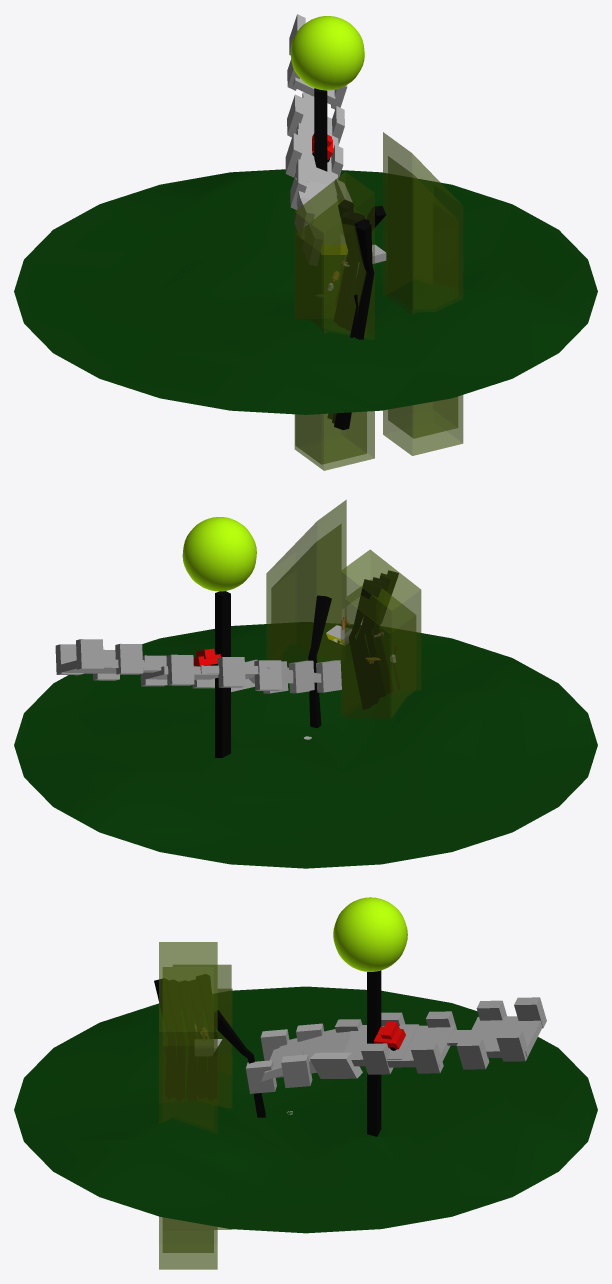
The picture shows the model from 3 angles, top to bottom: view 1: azimuth 30°, elevation 25°; view 2: azimuth 150°, elevation 25°; view 3: azimuth 270°, elevation 25°; orthographic projection.
Parts seen in each view (by area): view 1: left_tree1, pCube2, pCube18, pCube20, pasted__pCube18, pSphere3, pasted__right_tree5, right_tree, pCube8, pasted__right_tree13, pCube7, shard2 (+1 smaller); view 2: left_tree1, pCube18, pCube2, pasted__pCube18, pCube20, pSphere3, right_tree, right_tree2, pasted__right_tree14, pasted__right_tree13, pasted__right_tree6, pCube23 (+9 smaller); view 3: left_tree1, pCube2, pCube20, pSphere3, right_tree, pCube18, pCube25, pasted__pCube18, pCube21, pCube12, pCube8, pasted__right_tree6 (+16 smaller).
Boxes of the visible parts, x1,y1,x2,y2 form: left_tree1: (14,169,597,414); pCube2: (383,132,463,455); pCube18: (294,172,374,470); pCube20: (388,156,457,438); pasted__pCube18: (295,199,366,464); pSphere3: (290,16,364,90); pasted__right_tree5: (334,221,374,429); right_tree: (314,88,327,171); pCube8: (295,178,339,232); pasted__right_tree13: (338,211,358,327); pCube7: (296,129,337,195); shard2: (320,218,347,254); left_tree1: (14,622,597,868); pCube18: (340,549,421,718); pCube2: (266,500,346,667); pasted__pCube18: (344,579,415,718); pCube20: (271,524,341,665); pSphere3: (182,517,256,591); right_tree: (215,591,230,757); right_tree2: (308,595,331,728); pasted__right_tree14: (349,579,374,709); pasted__right_tree13: (356,583,381,704); pasted__right_tree6: (365,573,390,697); pCube23: (166,654,194,685); left_tree1: (14,986,597,1233); pCube2: (159,942,217,1269); pCube20: (163,967,213,1252); pSphere3: (333,897,407,971); right_tree: (367,970,381,1136); pCube18: (173,964,231,1229); pCube25: (467,1016,542,1057); pasted__pCube18: (214,988,232,1107); pCube21: (387,1025,456,1067); pCube12: (310,1052,362,1078); pCube8: (275,1029,350,1077); pasted__right_tree6: (166,980,184,1100).
Bounding box in the file's own units: 1126 × 753 × 1126.
